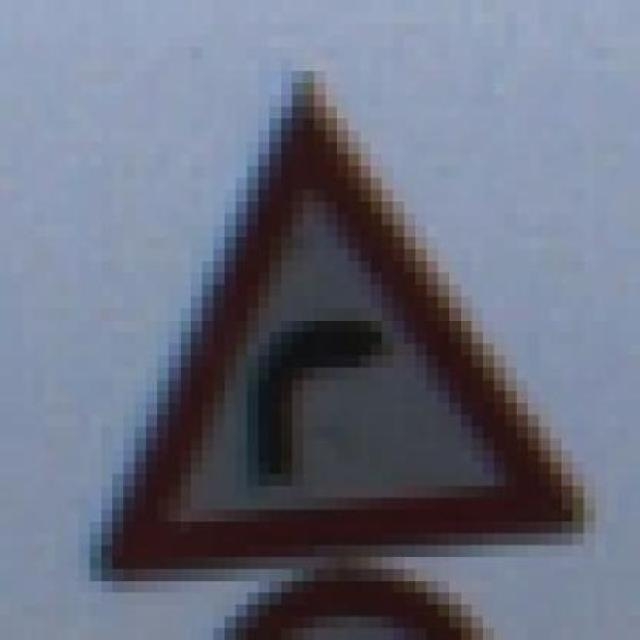Dangerous Rright Curve Ahead: (67, 70, 584, 582)
